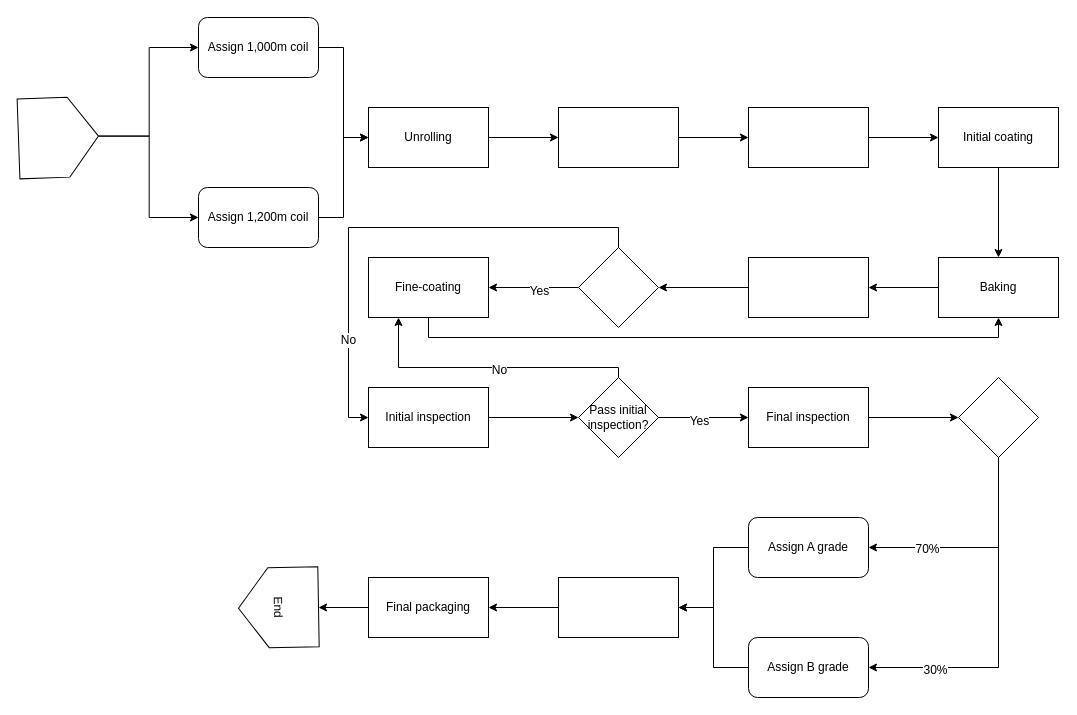
The diagram is 1077 pixels wide and 715 high, and some of its shapes have lost their labels. Here are the shapes that lost their labels. From the top down, the centre of each, then its label:
point 58,137: Coil Entering
point 618,137: Stitching
point 808,137: Pre-treatment
point 618,287: need fine-coating?
point 808,287: Cool down
point 998,417: What grade?
point 618,607: Coiling
